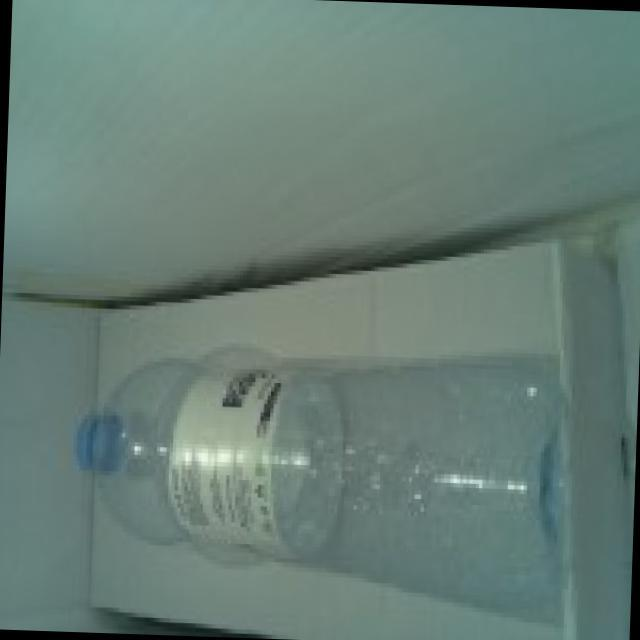good: (52, 293, 594, 621)
